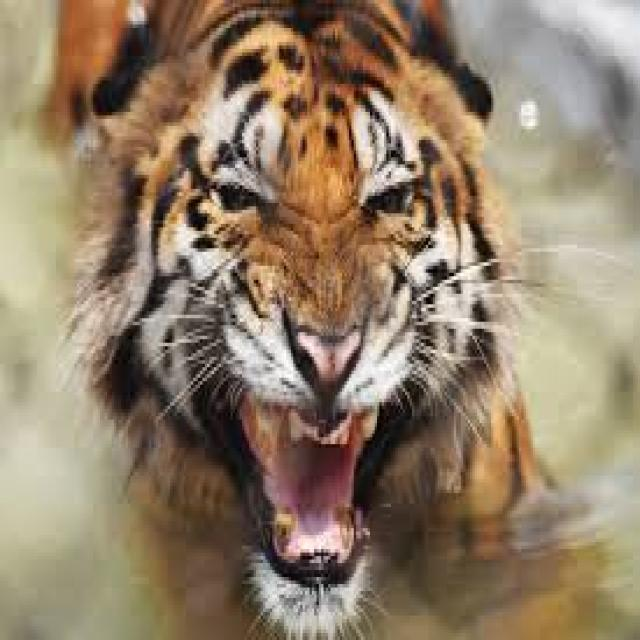Tiger: (44, 0, 559, 637)
